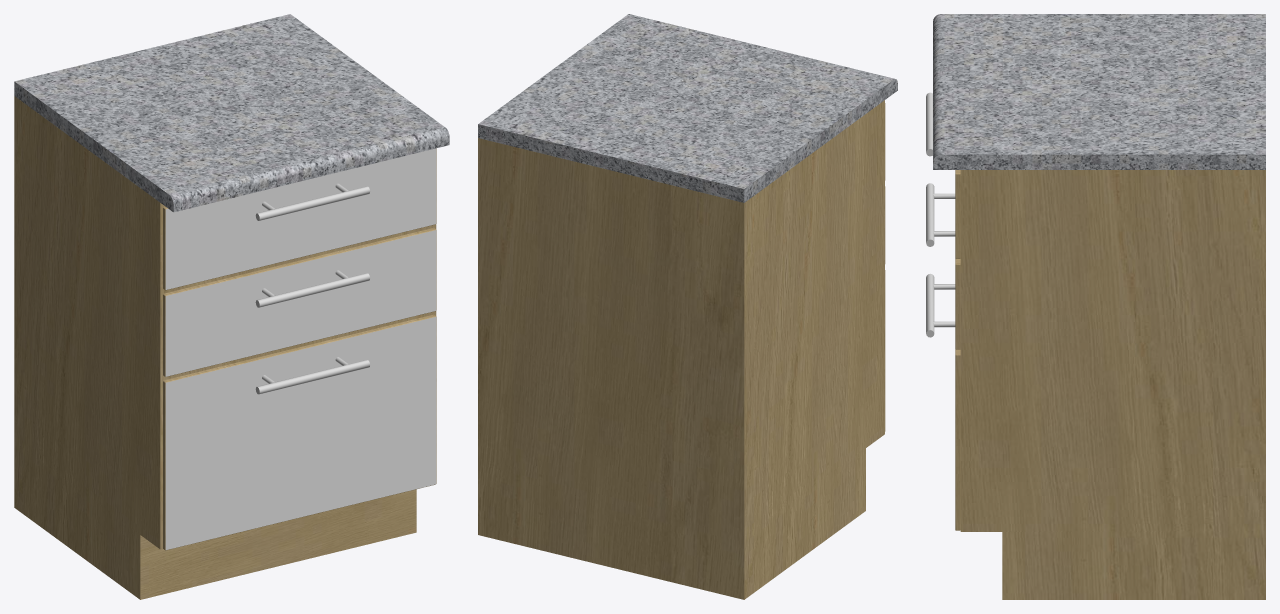
Rendered from sh_blend_swap_cc_0_drawerscabinet.glb.
3 renders of one model, left to right at view 1: azimuth 30°, elevation 25°; view 2: azimuth 150°, elevation 25°; view 3: azimuth 270°, elevation 25°, orthographic. The views are drawn at different scales.
Bounding box in the file's own units: 0.6 × 0.885 × 0.612.
Materials: 7 (5 with a texture image).
